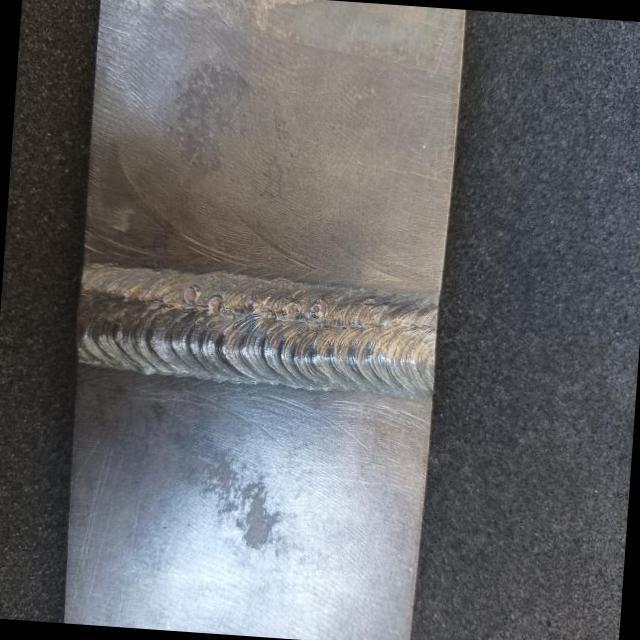defect: (284, 297, 301, 323), (308, 296, 325, 321), (181, 284, 198, 307), (206, 294, 223, 315), (246, 298, 255, 310)
